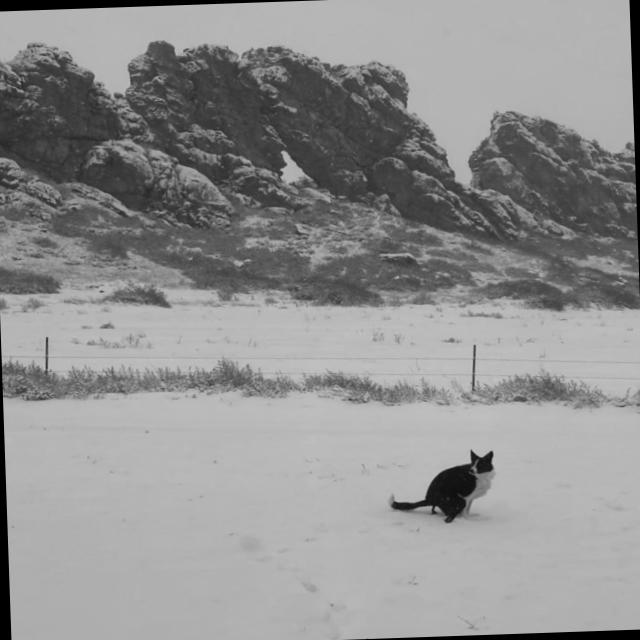squatting: (382, 444, 500, 528)
